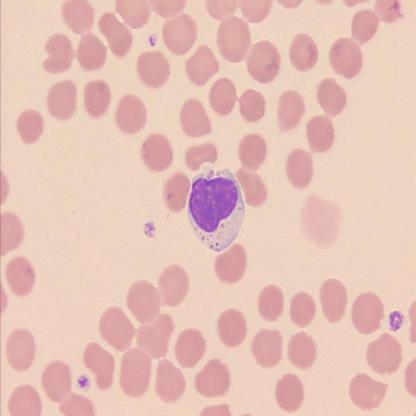Lymphocyte: (186, 162, 246, 254)
